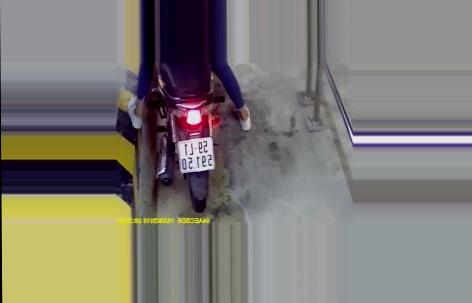License_Plate: (173, 135, 219, 177)
